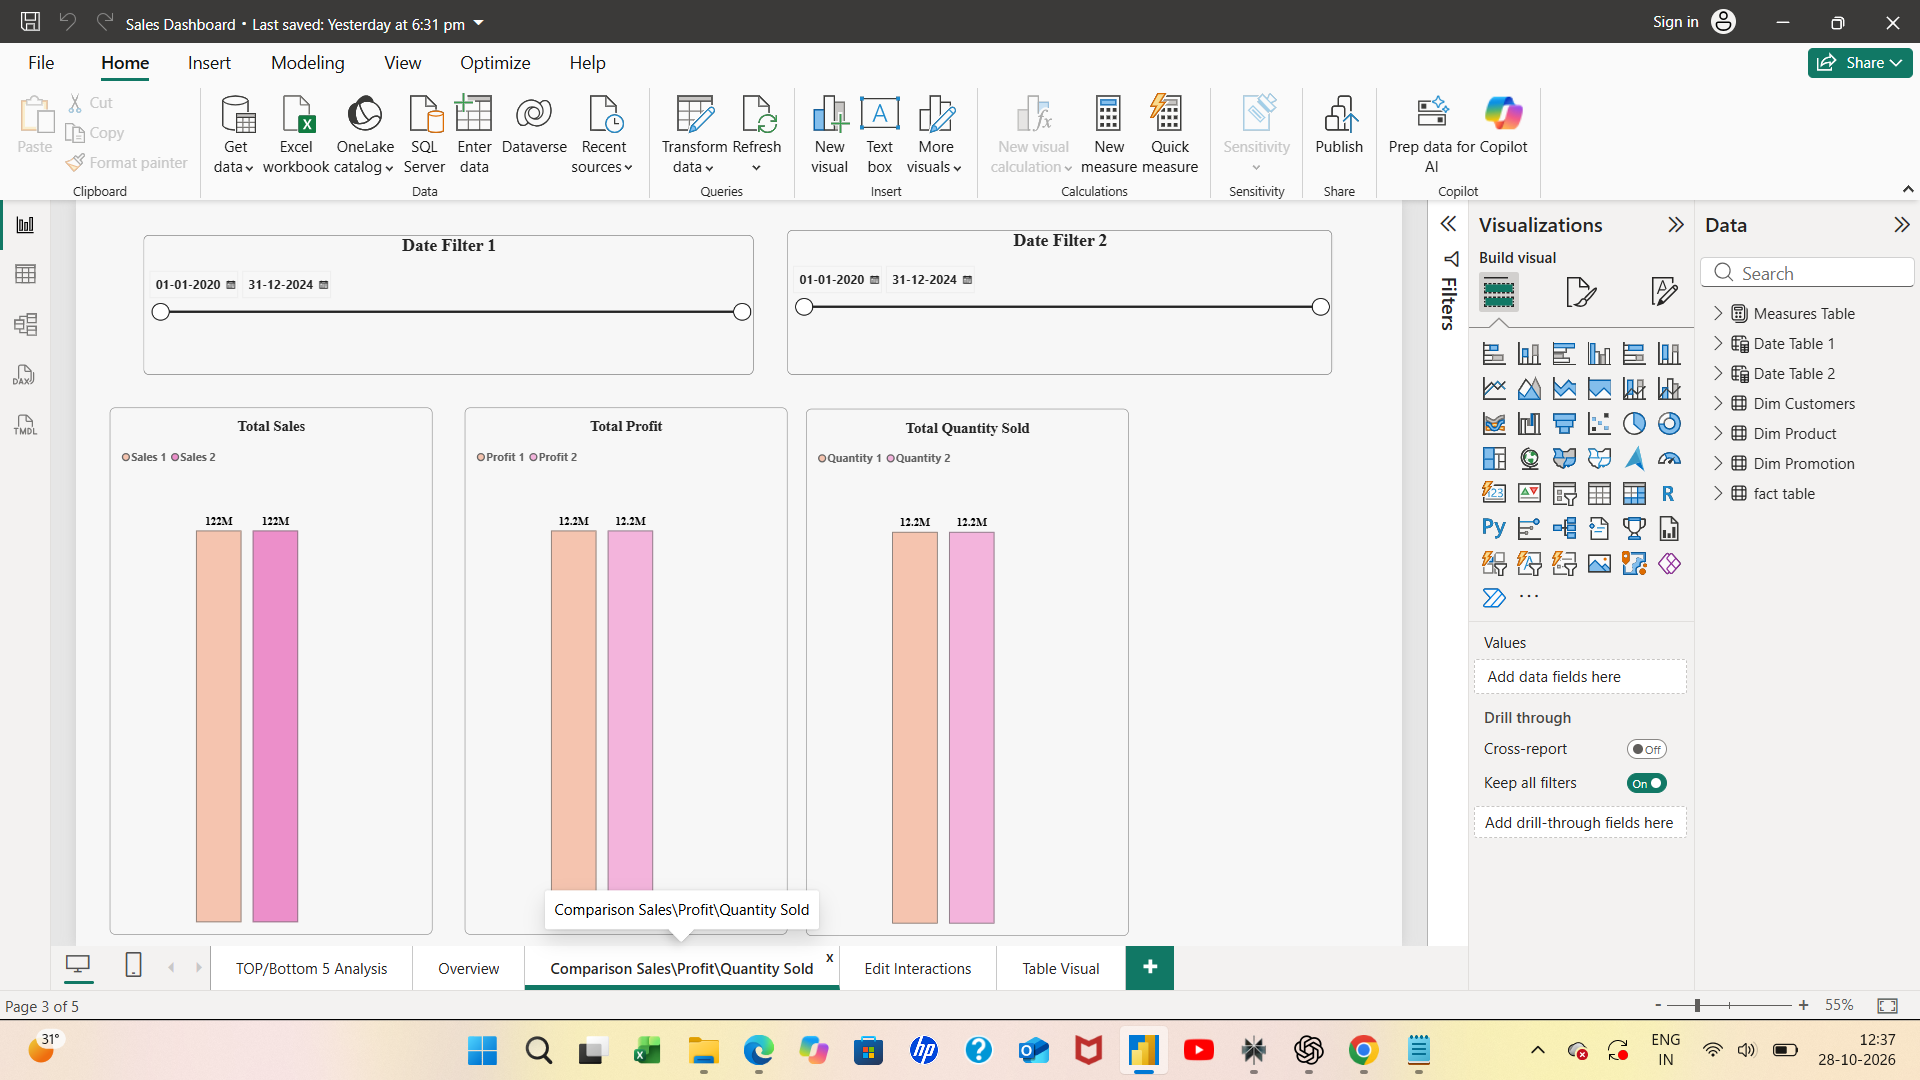

Layout of this report page (visuals, bound fields, positions):
{"tool":"powerbi","page":{"name":"Comparison Sales\\Profit\\Quantity Sold","canvas":[1920,1080],"ordinal":2},"visuals":[{"type":"slicer","title":"Date Filter 1","fields":{"Values":["Date Table 1.Date"]},"box":[97.7,50.7,883.1,202.7],"z":0},{"type":"slicer","title":"Date Filter 2","fields":{"Values":["Date Table 2.Date"]},"box":[1029.7,43.4,789,209.9],"z":1},{"type":"clusteredColumnChart","title":"Total Sales","fields":{"Y":["Sum(fact table.Net Sales  )","Date Table 1.Sum Of Net Sales"]},"box":[49,301,467,763],"z":2},{"type":"clusteredColumnChart","title":"Total Profit","fields":{"Y":["Sum(fact table.Profit)","Measures Table.Total Profit"]},"box":[562.8,300.4,467,763],"z":3},{"type":"clusteredColumnChart","title":"Total Quantity Sold","fields":{"Y":["Sum(fact table.Profit)","Measures Table.Total Profit"]},"box":[1056.8,302.2,467,763],"z":4}]}

Visuals, with their boxes on the page's 1920x1080 design canvas (x1, y1, x2, y2). These are canvas units, not pixel positions in the 1920x1080 screenshot, which may show the page scaled, cropped or inside an application window:
"Date Filter 1" slicer: left=98, top=51, right=981, bottom=253
"Date Filter 2" slicer: left=1030, top=43, right=1819, bottom=253
"Total Sales" clusteredColumnChart: left=49, top=301, right=516, bottom=1064
"Total Profit" clusteredColumnChart: left=563, top=300, right=1030, bottom=1063
"Total Quantity Sold" clusteredColumnChart: left=1057, top=302, right=1524, bottom=1065
